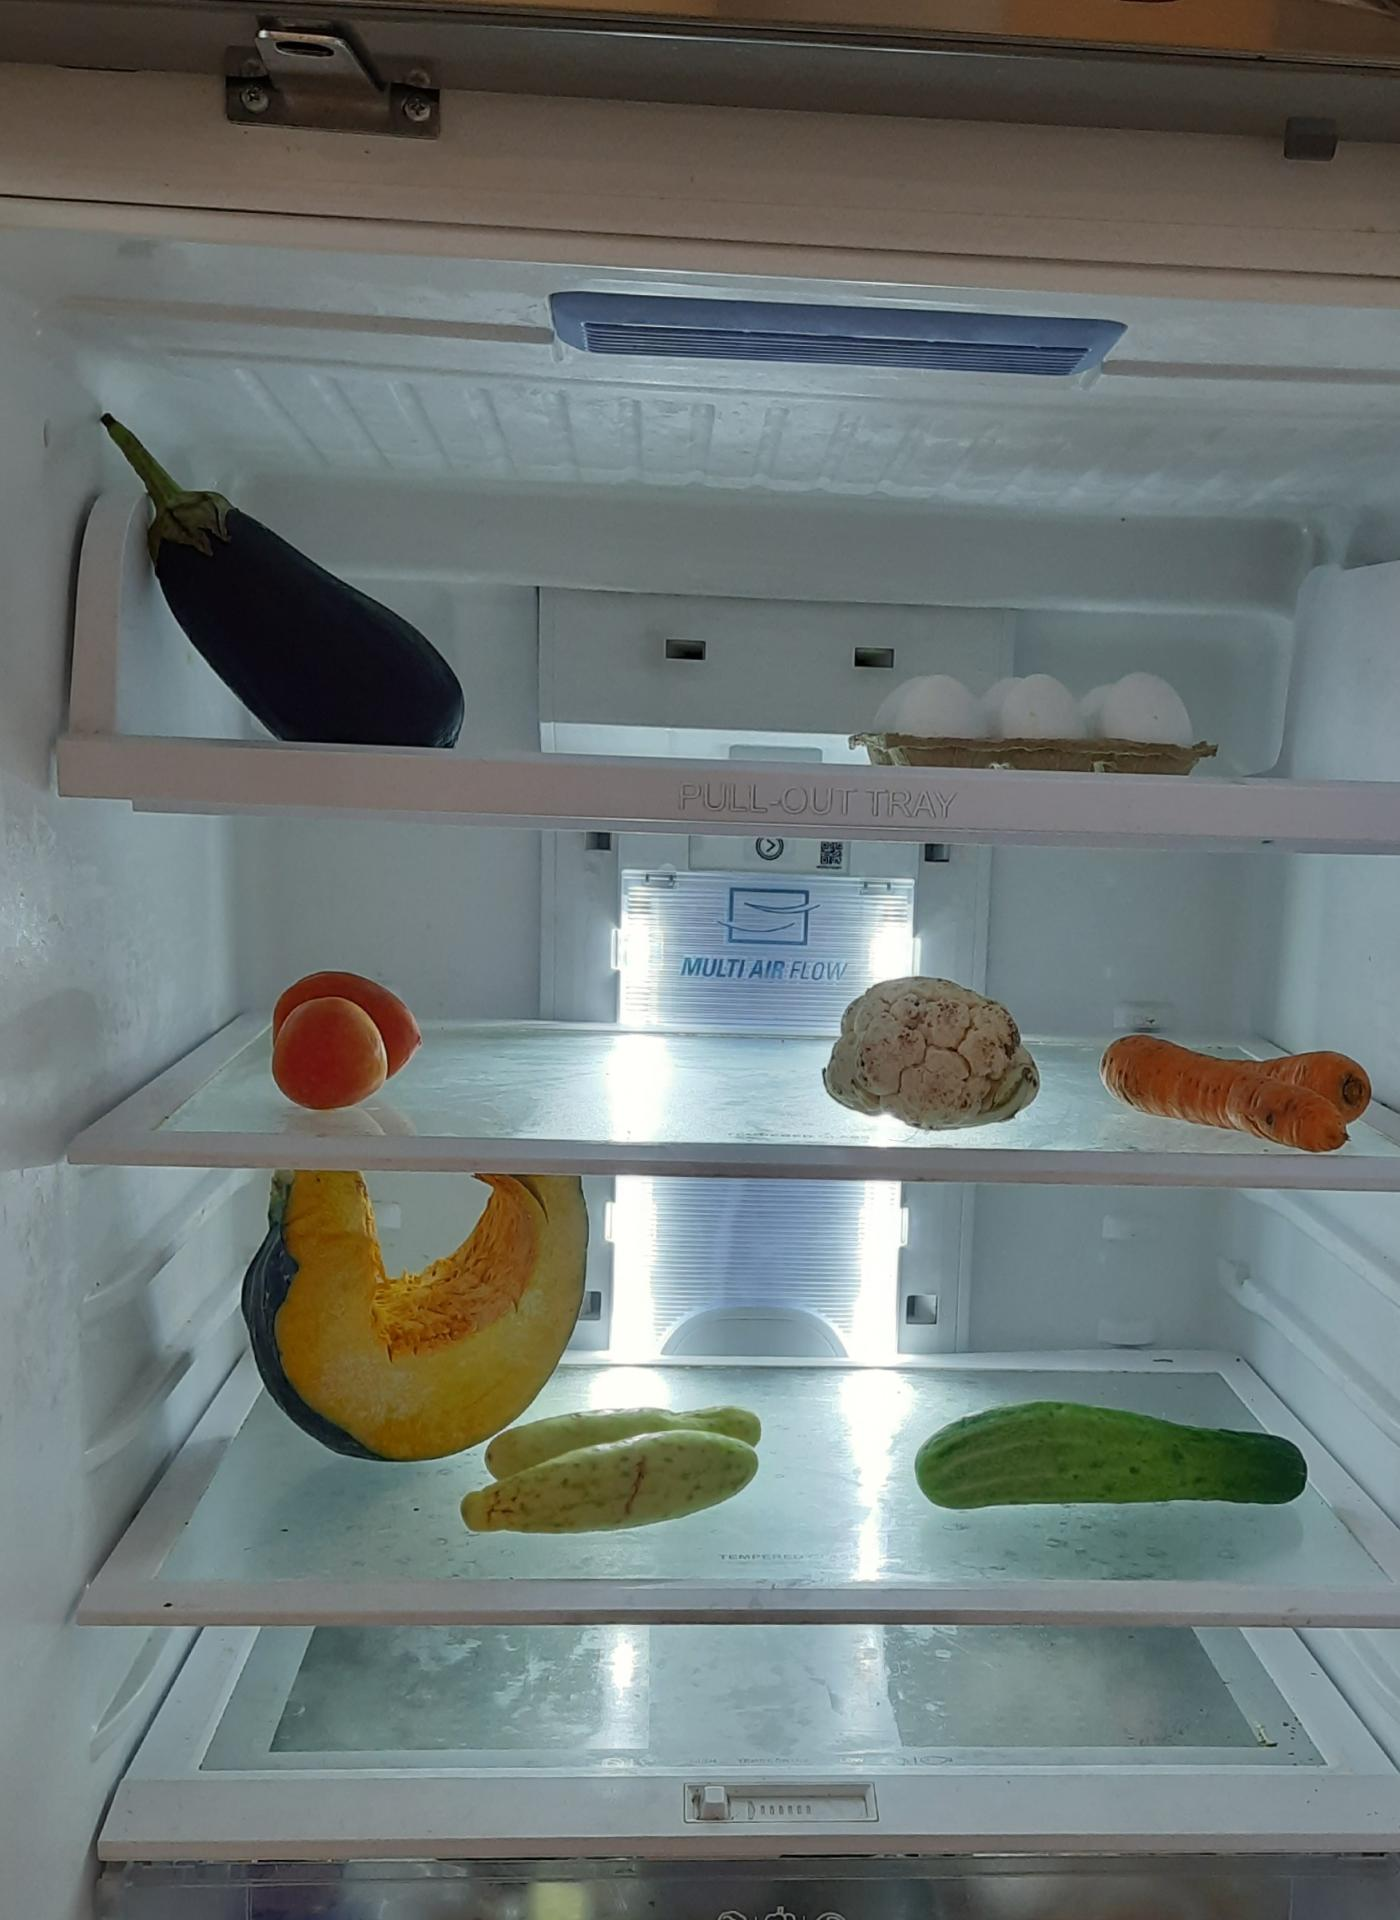brinjal: (103, 408, 482, 744)
carrots: (1105, 1030, 1378, 1152)
cauliflower: (820, 972, 1047, 1122)
cucumber: (909, 1397, 1324, 1522), (456, 1404, 771, 1537)
egg: (877, 674, 1196, 745)
pumpkin: (245, 1176, 604, 1467)
tomato: (267, 972, 425, 1115)
